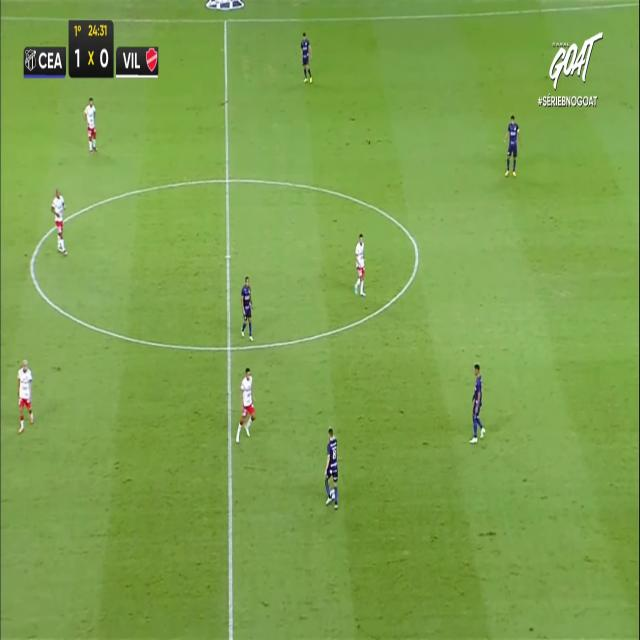ball: (330, 487, 337, 506)
player: (235, 366, 254, 442), (16, 358, 34, 431), (324, 426, 338, 507), (470, 364, 484, 441), (51, 188, 67, 254), (504, 113, 520, 176), (240, 275, 254, 340), (84, 96, 98, 151), (354, 232, 366, 295), (299, 31, 312, 83)
